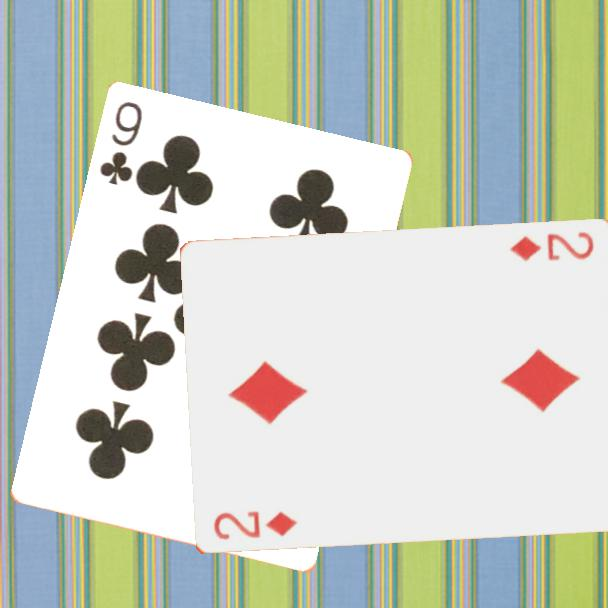c09: (96, 98, 146, 189)
d02: (506, 228, 597, 264), (210, 508, 299, 543)
